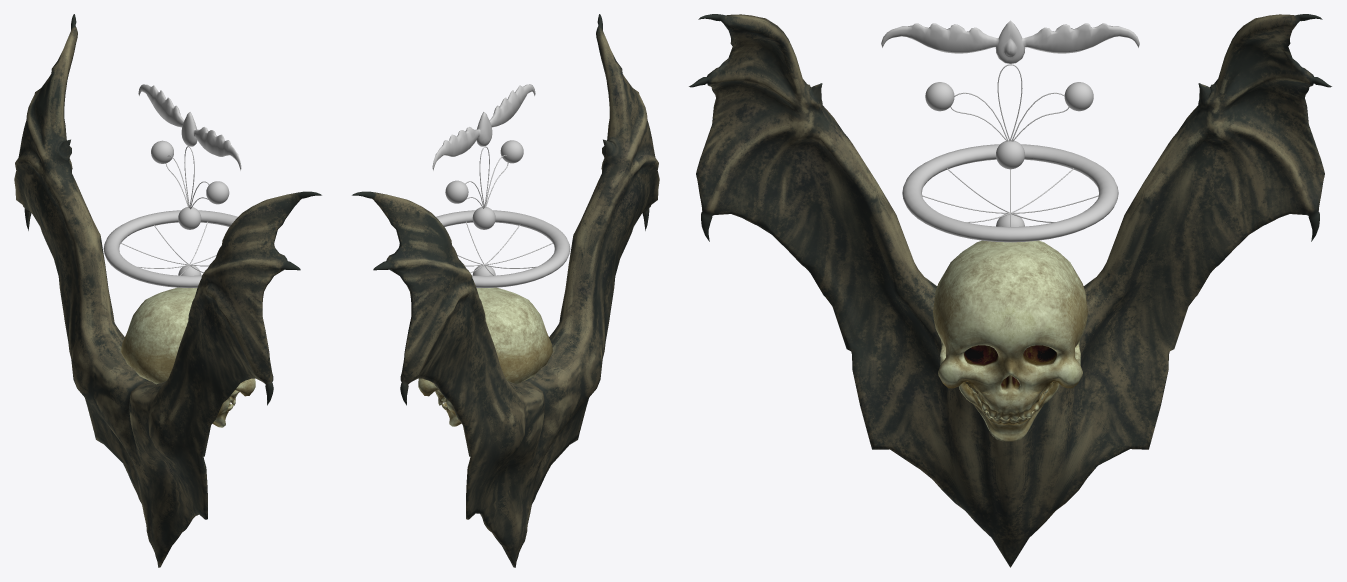
3 renders of one model, left to right at view 1: azimuth 30°, elevation 25°; view 2: azimuth 150°, elevation 25°; view 3: azimuth 270°, elevation 25°, orthographic. The views are drawn at different scales.
Parts seen in each view (by area): view 1: wr_8, Plane_6, sr_7; view 2: wr_8, Plane_6, sr_7; view 3: wr_8, sr_7, Plane_6.
Boxes of the visible parts, left/top/right/bottom form: wr_8: left=14, top=14, right=321, bottom=567; Plane_6: left=103, top=84, right=274, bottom=287; sr_7: left=121, top=287, right=255, bottom=427; wr_8: left=352, top=14, right=659, bottom=567; Plane_6: left=399, top=84, right=570, bottom=287; sr_7: left=418, top=287, right=552, bottom=426; wr_8: left=689, top=14, right=1331, bottom=567; sr_7: left=933, top=240, right=1087, bottom=441; Plane_6: left=881, top=20, right=1139, bottom=242.
Bounding box in the file's own units: 0.2531 × 0.7387 × 0.7517.
